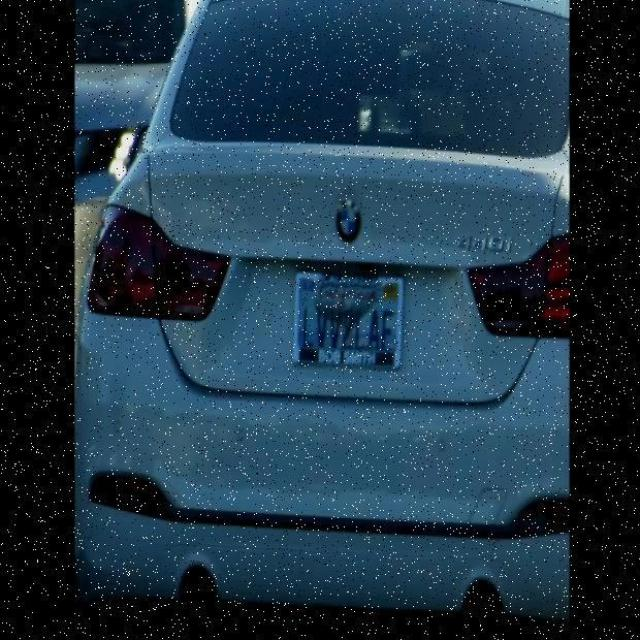LicensePlate: (288, 252, 416, 378)
